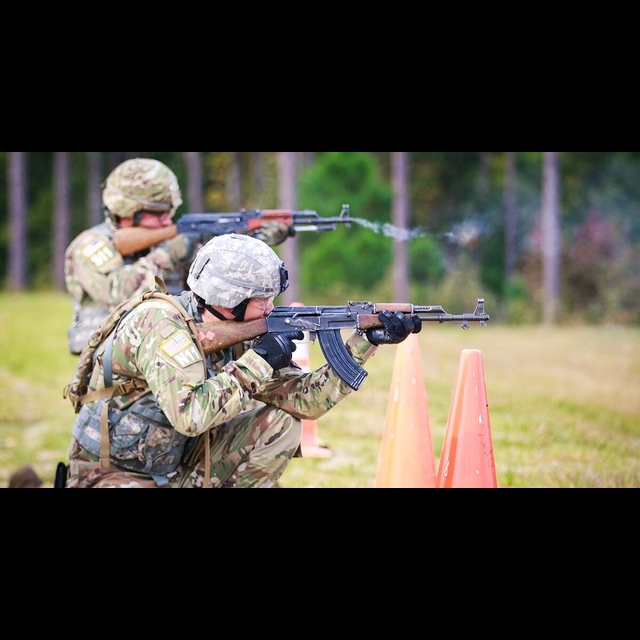AK47: (271, 292, 502, 388), (162, 199, 361, 250)
